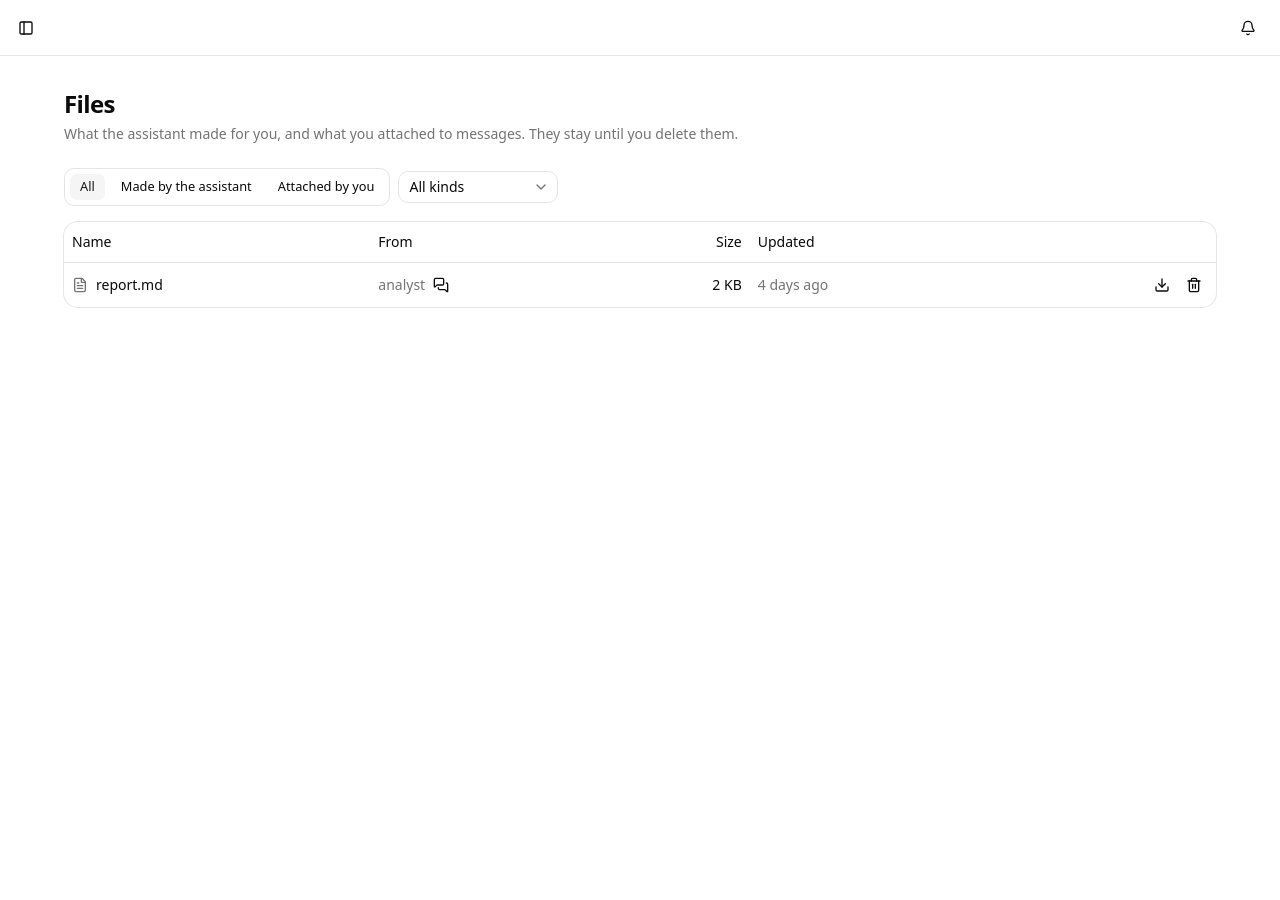
files › deletes a file after asking
This screenshot has width=1280, height=900.
Click the button named "Delete report.md" at [1194, 284], box [1180,270,1208,298]
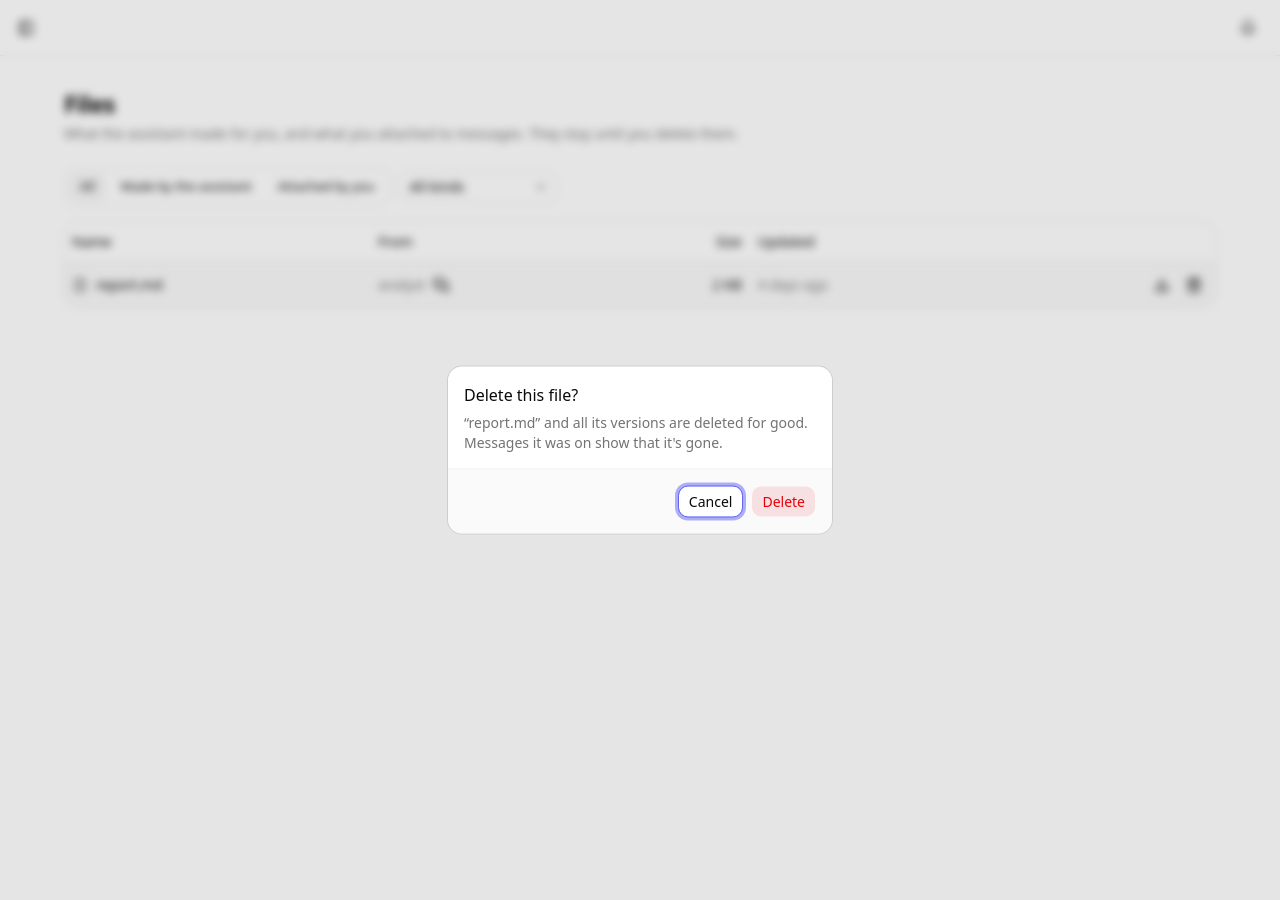
Click the button "Delete" at [784, 502], box [751,486,816,518]
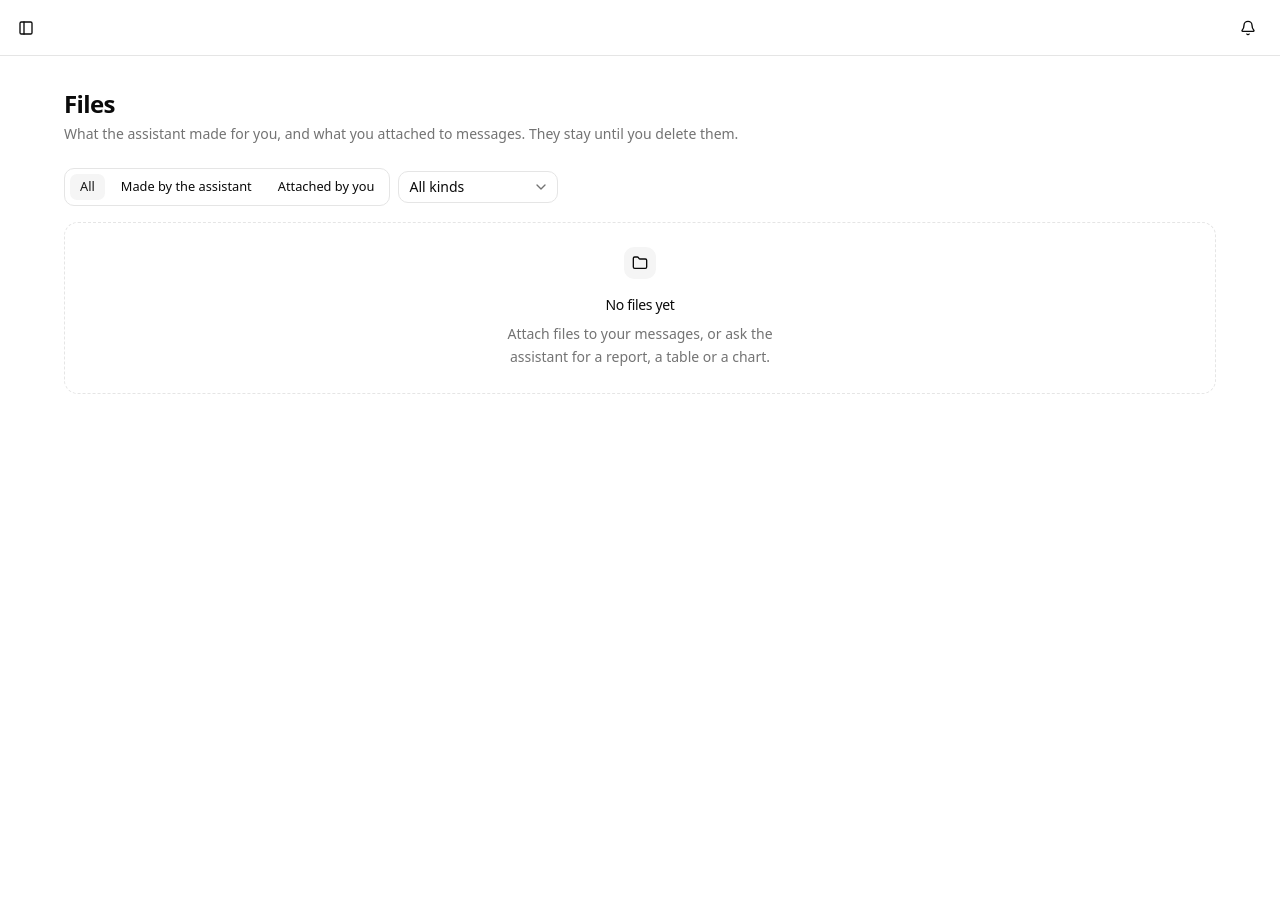
expect the text "No files yet" is shown: met, box [606,295,674,315]
